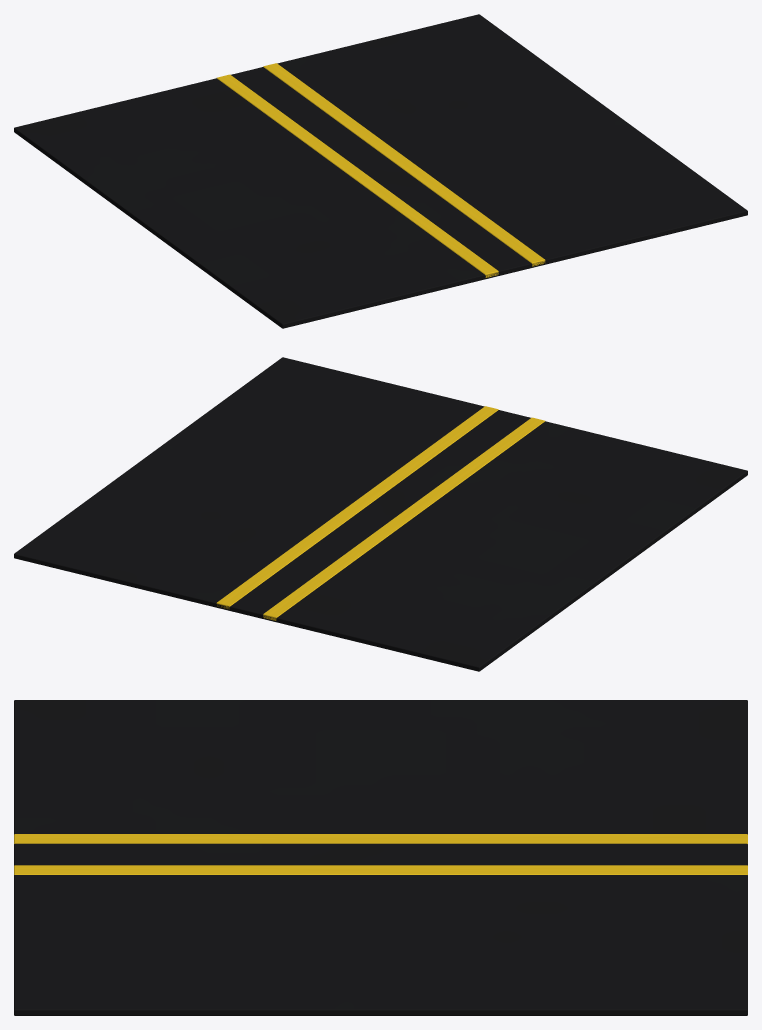
The model's file is road_lane_line_yellow.glb.
3 renders of one model, top to bottom at view 1: azimuth 30°, elevation 25°; view 2: azimuth 150°, elevation 25°; view 3: azimuth 270°, elevation 25°, orthographic. The views are drawn at different scales.
Parts seen in each view (by area): view 1: road_lane_line_yellow_asphalt, road_lane_line_yellow_stripe_l, road_lane_line_yellow_stripe_r; view 2: road_lane_line_yellow_asphalt, road_lane_line_yellow_stripe_l, road_lane_line_yellow_stripe_r; view 3: road_lane_line_yellow_asphalt, road_lane_line_yellow_stripe_l, road_lane_line_yellow_stripe_r.
Boxes of the visible parts, x1,y1,x2,y2 form: road_lane_line_yellow_asphalt: [14, 14, 747, 328]; road_lane_line_yellow_stripe_l: [217, 74, 498, 277]; road_lane_line_yellow_stripe_r: [263, 63, 545, 266]; road_lane_line_yellow_asphalt: [14, 357, 747, 671]; road_lane_line_yellow_stripe_l: [263, 417, 544, 620]; road_lane_line_yellow_stripe_r: [216, 406, 498, 609]; road_lane_line_yellow_asphalt: [14, 700, 747, 1015]; road_lane_line_yellow_stripe_l: [14, 834, 747, 843]; road_lane_line_yellow_stripe_r: [14, 865, 747, 874].
Size of the model in its own units: 4 by 0.044 by 4.
2 materials, 2 textured.
